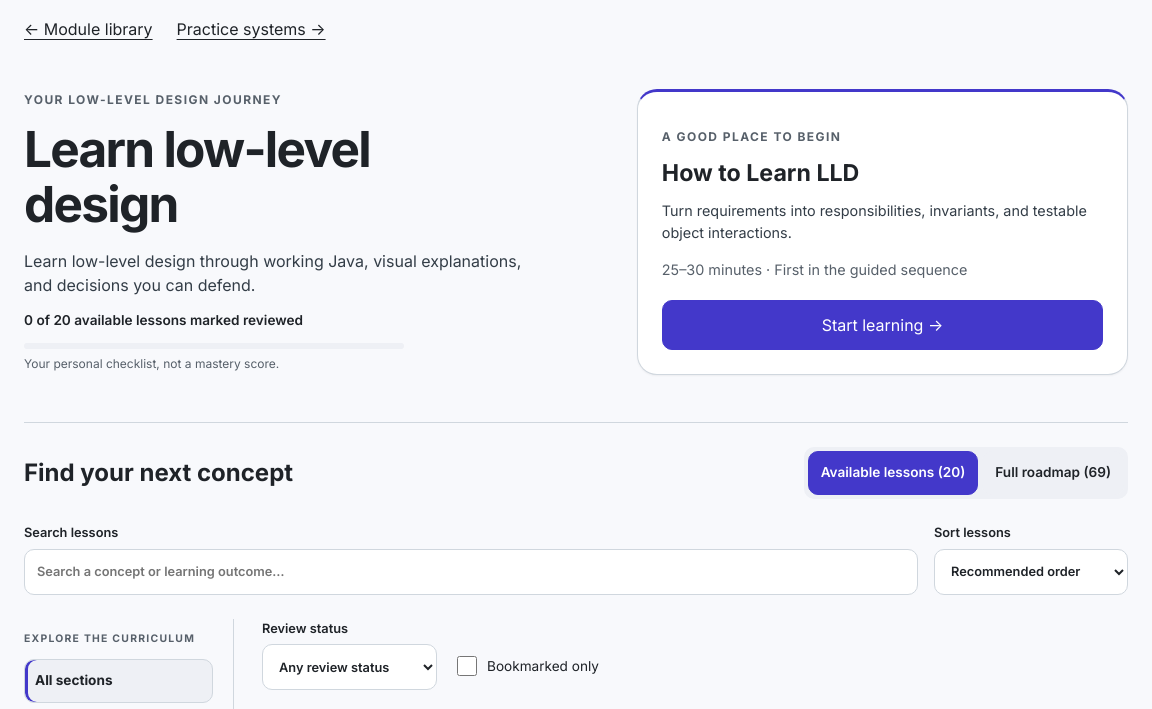
Test: Learning catalog discovery › searches section metadata and lesson outcomes as well as titles
Type "Class relationships" into the search field labelled "Search lessons" at (471,572), box [24,549,918,595]
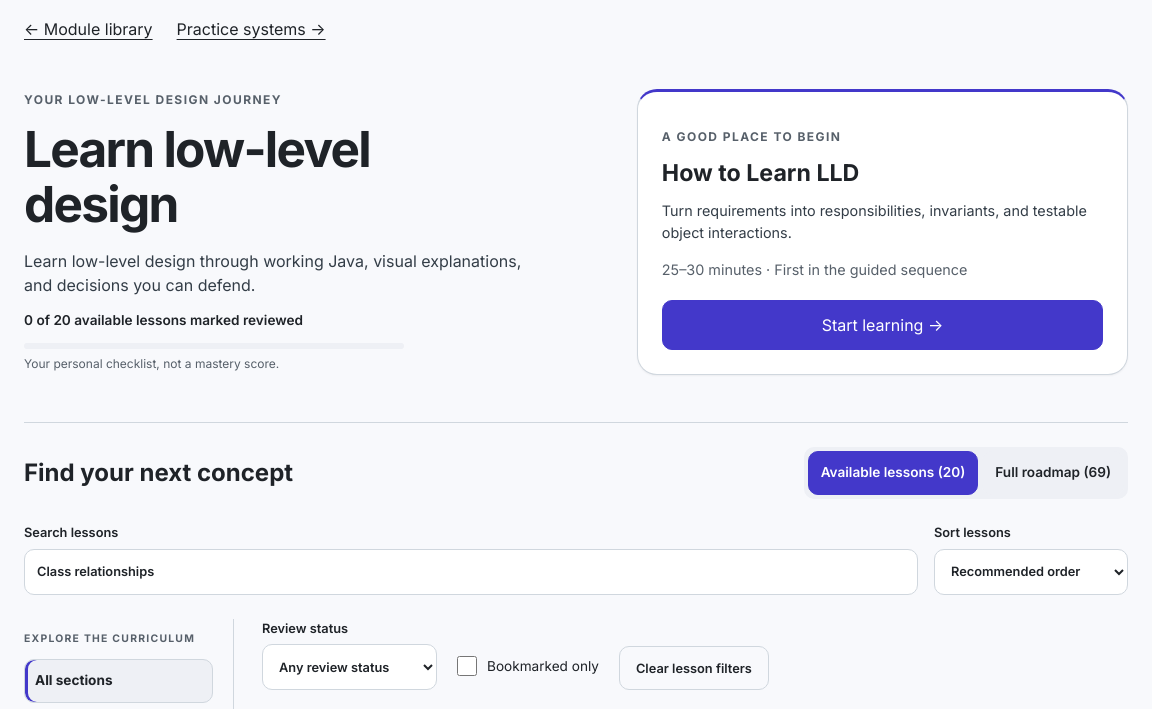
Replace the text in the search field labelled "Search lessons" with "Protect invariants and distinguish a safe snapshot from leaked mutable state." at (471,572), box [24,549,918,595]
(page scrolled)
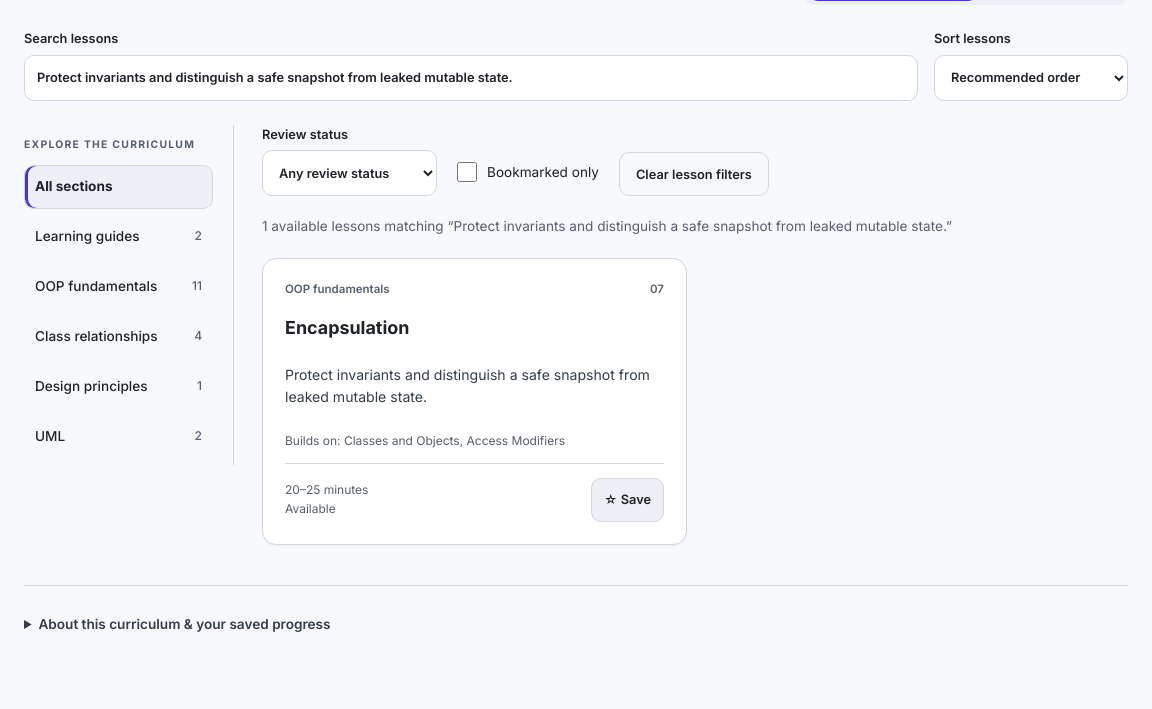
Check: the element "Encapsulation" is shown, box [262,258,687,545]
